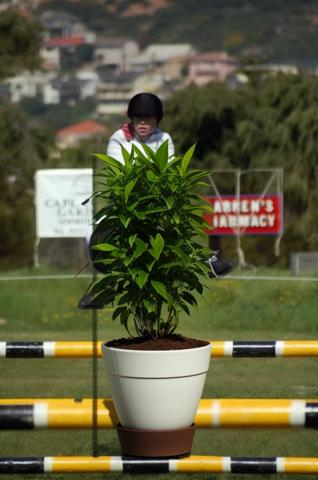person: (77, 93, 237, 313)
pottedplant: (92, 139, 213, 459)
